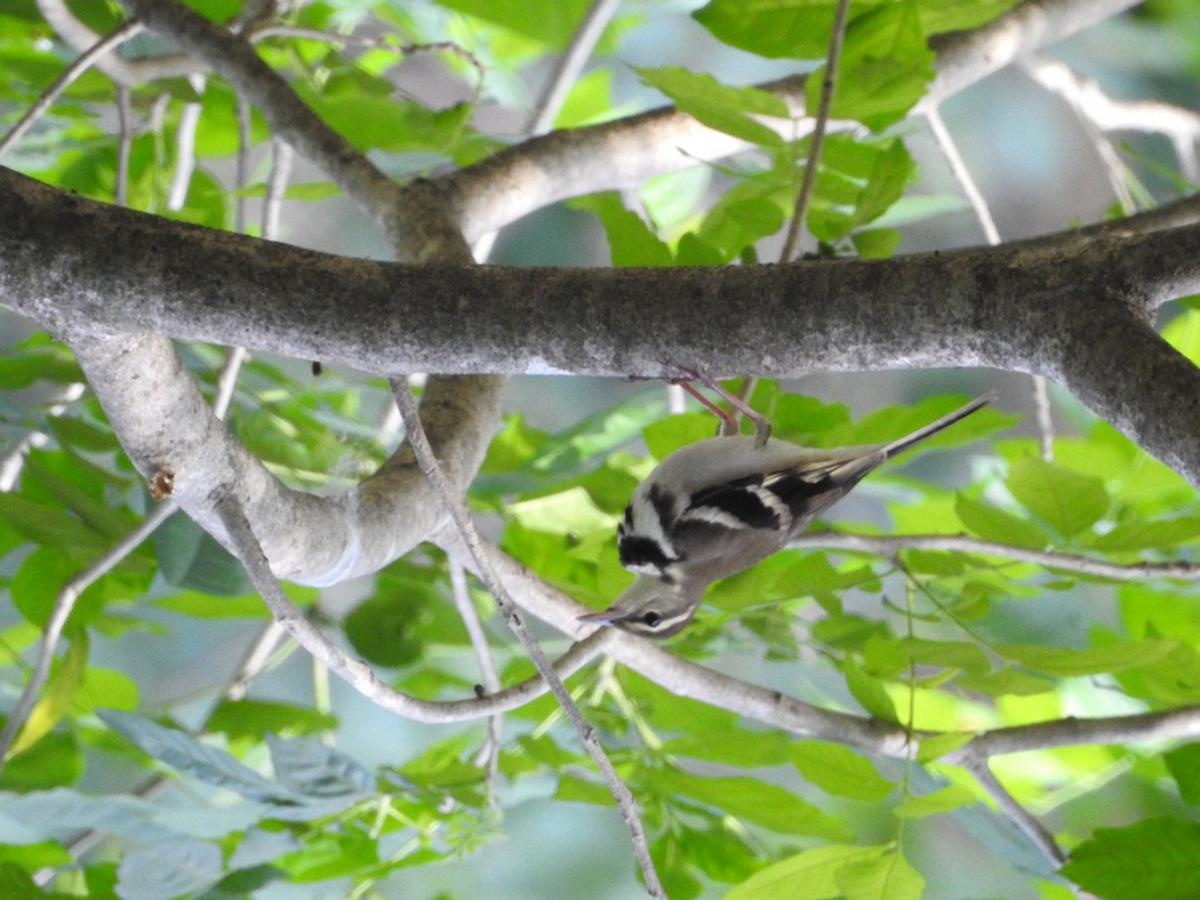wagtail: (583, 345, 963, 656)
